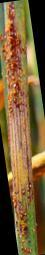Wheat: (4, 7, 28, 121)
